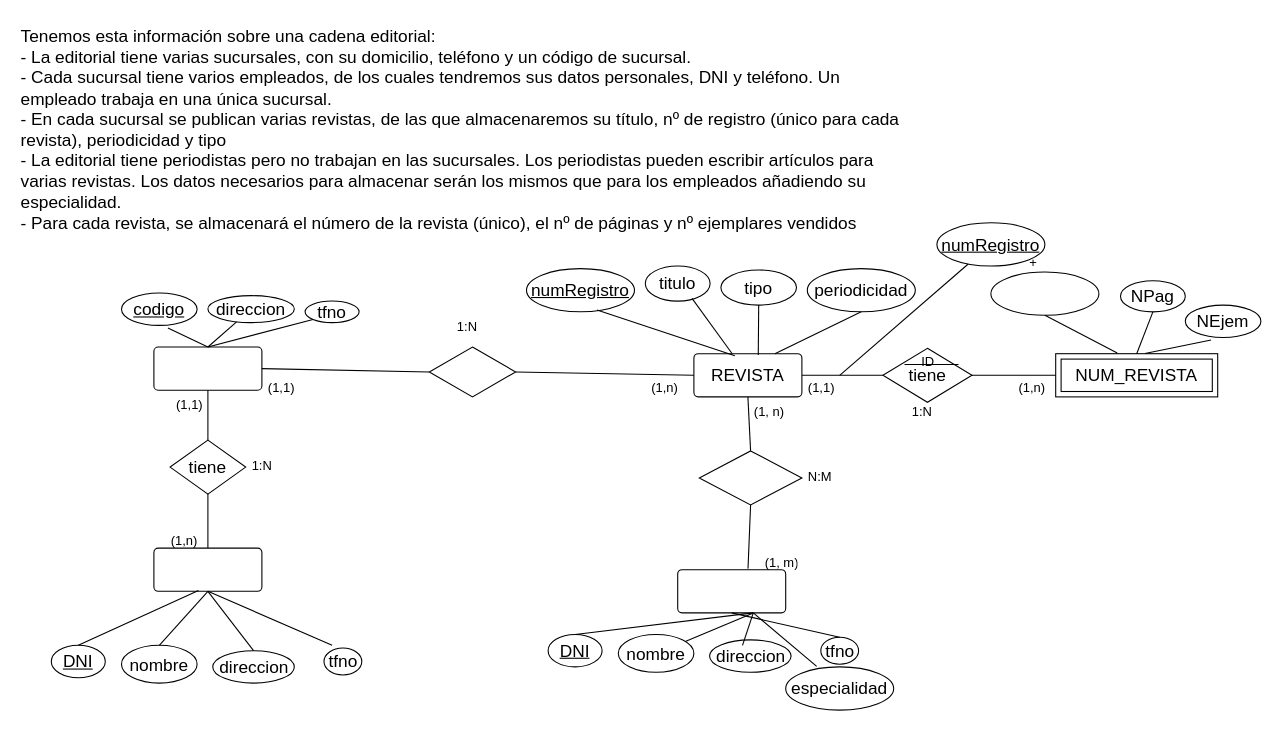
This 1280x729 diagram has some shape labels left out. Each missing label, with the centre of its shape:
EMPLEADO: the point at 207,569
escriben: the point at 750,477
NumRev: the point at 1044,293
PERIODISTA: the point at 731,591
publica: the point at 472,371
SUCURSAL: the point at 207,368
